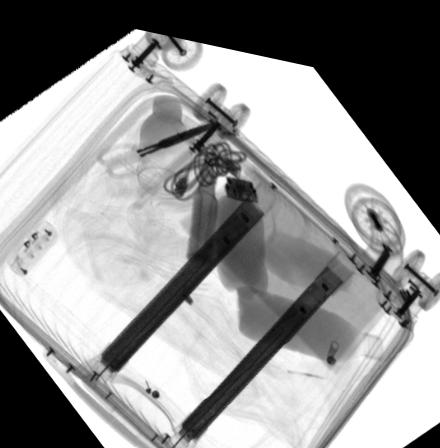Scissors: (95, 111, 220, 176)
